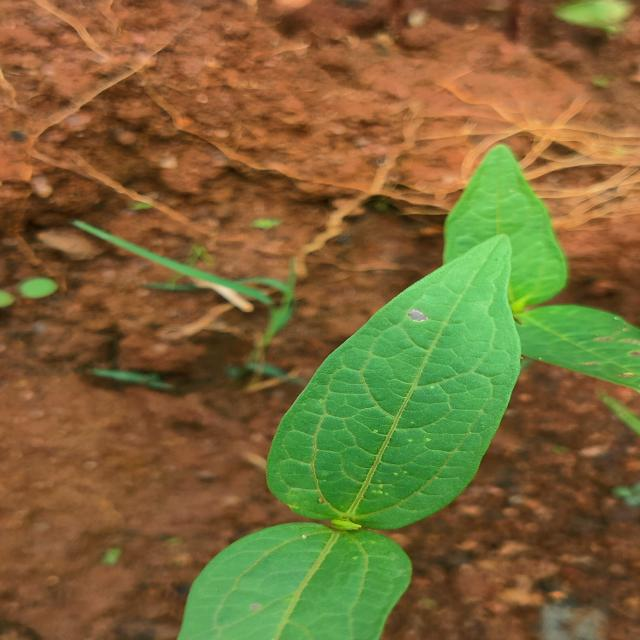Black gram_healthy: (270, 231, 528, 535), (454, 143, 560, 328)
